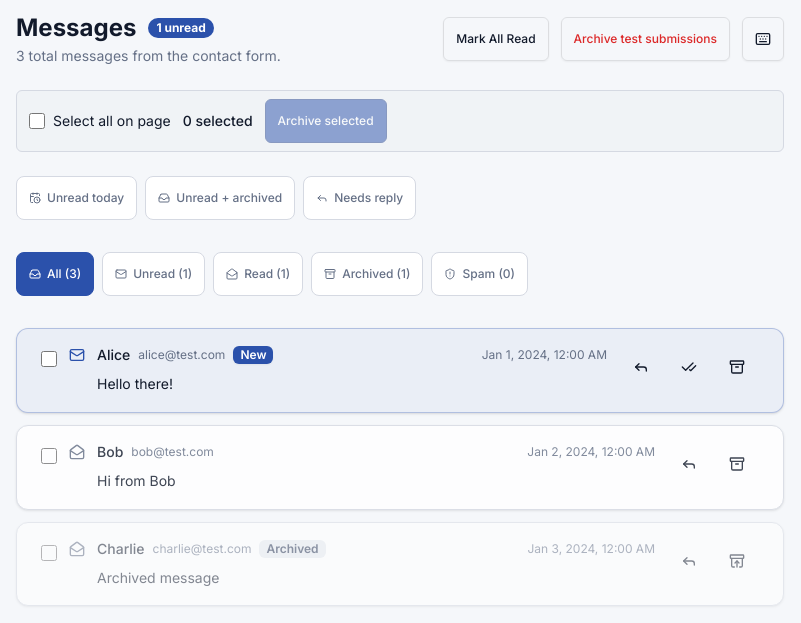
Test case: MessagesViewer › select-all on page toggles off when everything is already selected
Expected: the text "Alice" is shown, 97,345 -> 130,365
Click the checkbox labelled "Select all on page" at (37, 121), box 29,113 -> 45,129
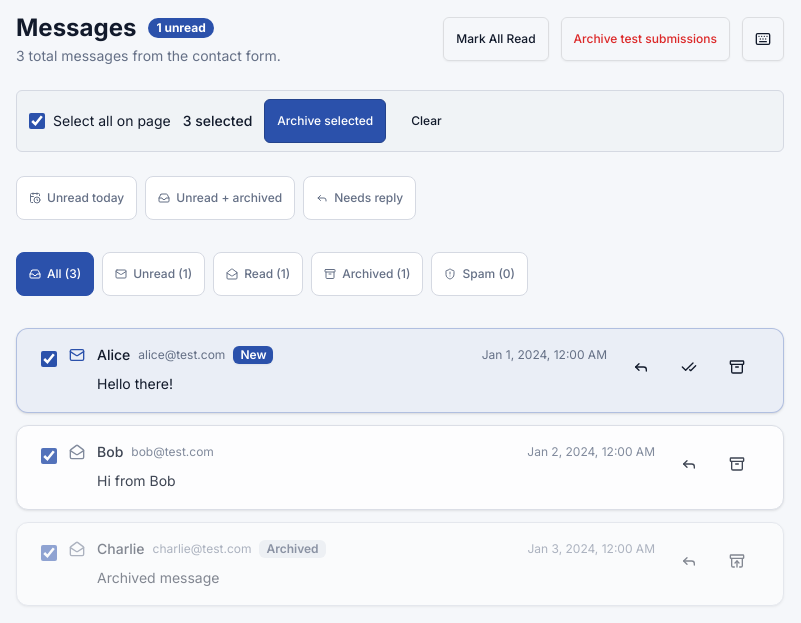
Expected: the text "3 selected" is shown, 183,111 -> 252,131
Click the checkbox labelled "Select all on page" at (37, 121), box 29,113 -> 45,129
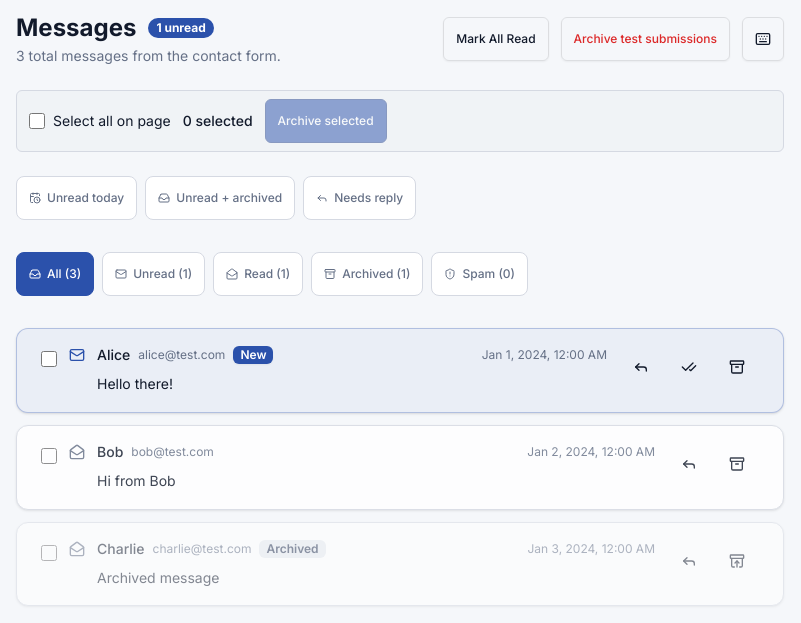
Expected: the text "0 selected" is shown, 183,111 -> 253,131
Expected: the checkbox named "Select message from Alice" is not checked, 41,351 -> 57,367
